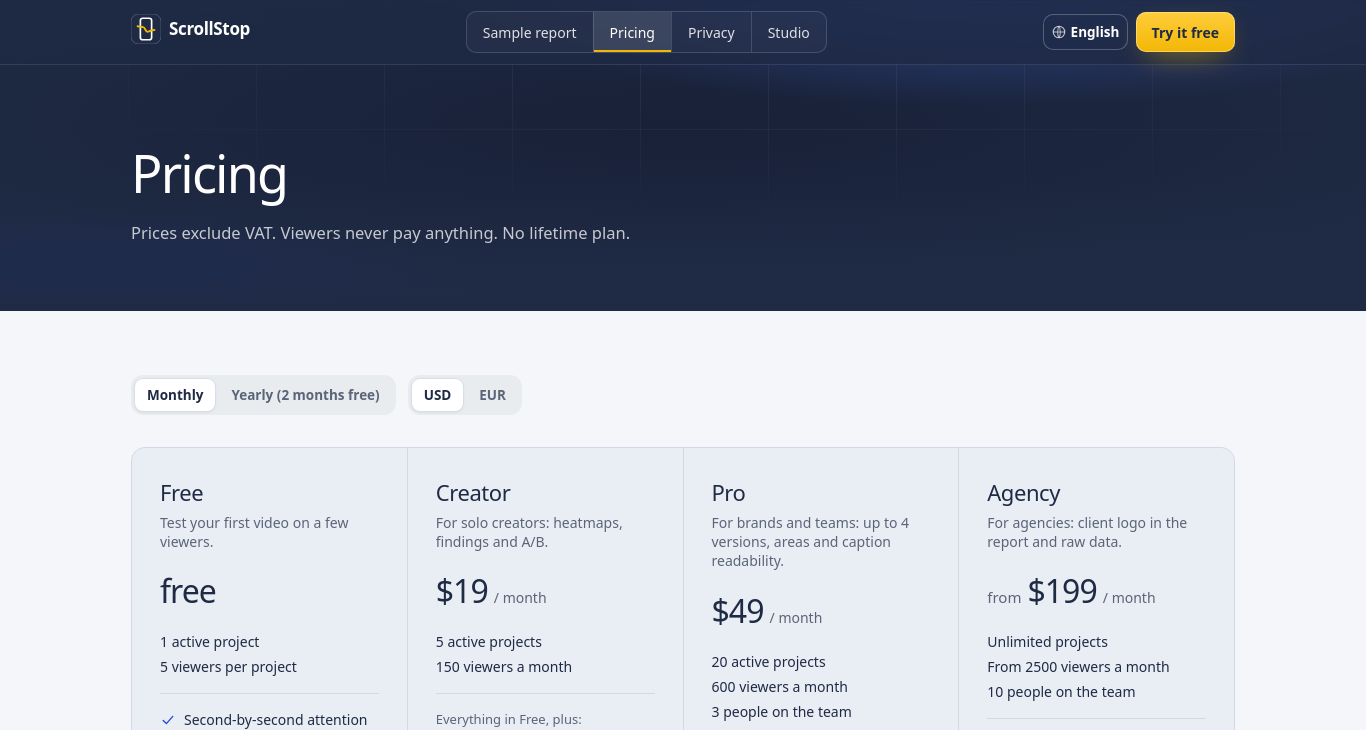
Scenario: strona publiczna (M4) › cennik po angielsku: USD z przełącznikiem EUR
Expected: the text "$49" is shown, [712, 587, 764, 635]
Click the radio button labelled "EUR". click: (493, 395)
box: [467, 379, 518, 411]
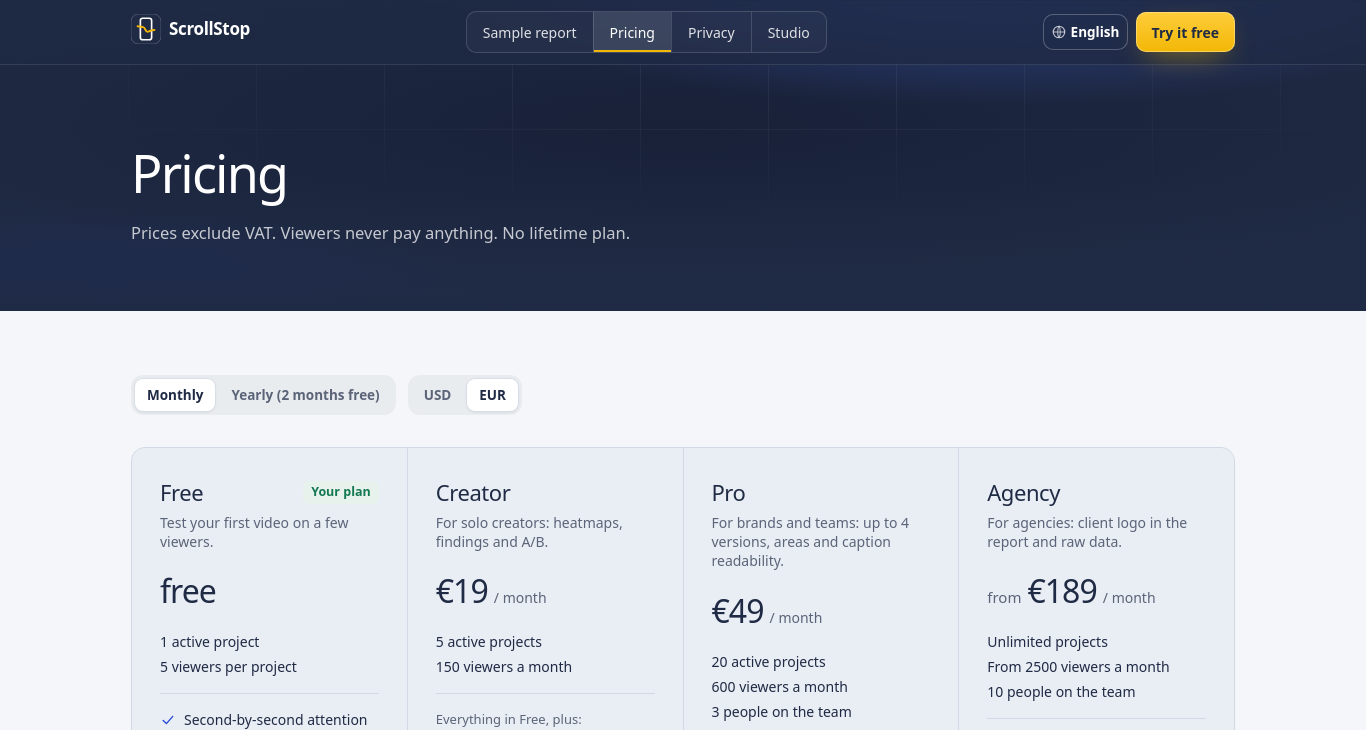
Expected: the text "€49" is shown, [712, 587, 764, 635]
